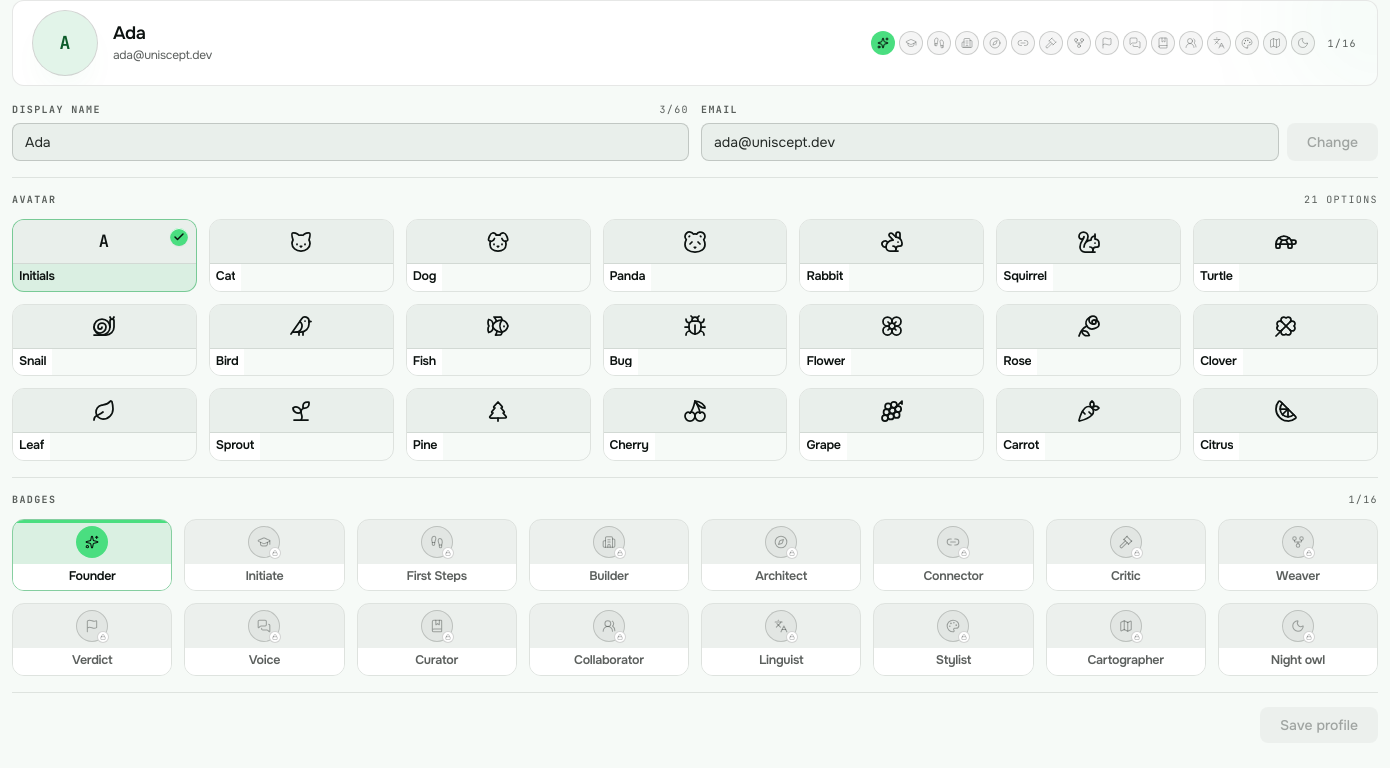
Test: ProfileSection › GIVEN the profile of a named account › WHEN an invalid email is typed › THEN the email is flagged and the change cannot be submitted
The width and height of the screenshot is (1390, 768).
Replace the text in the field named "Email" with "not-an-email": point(990, 142) [701,123,1279,161]
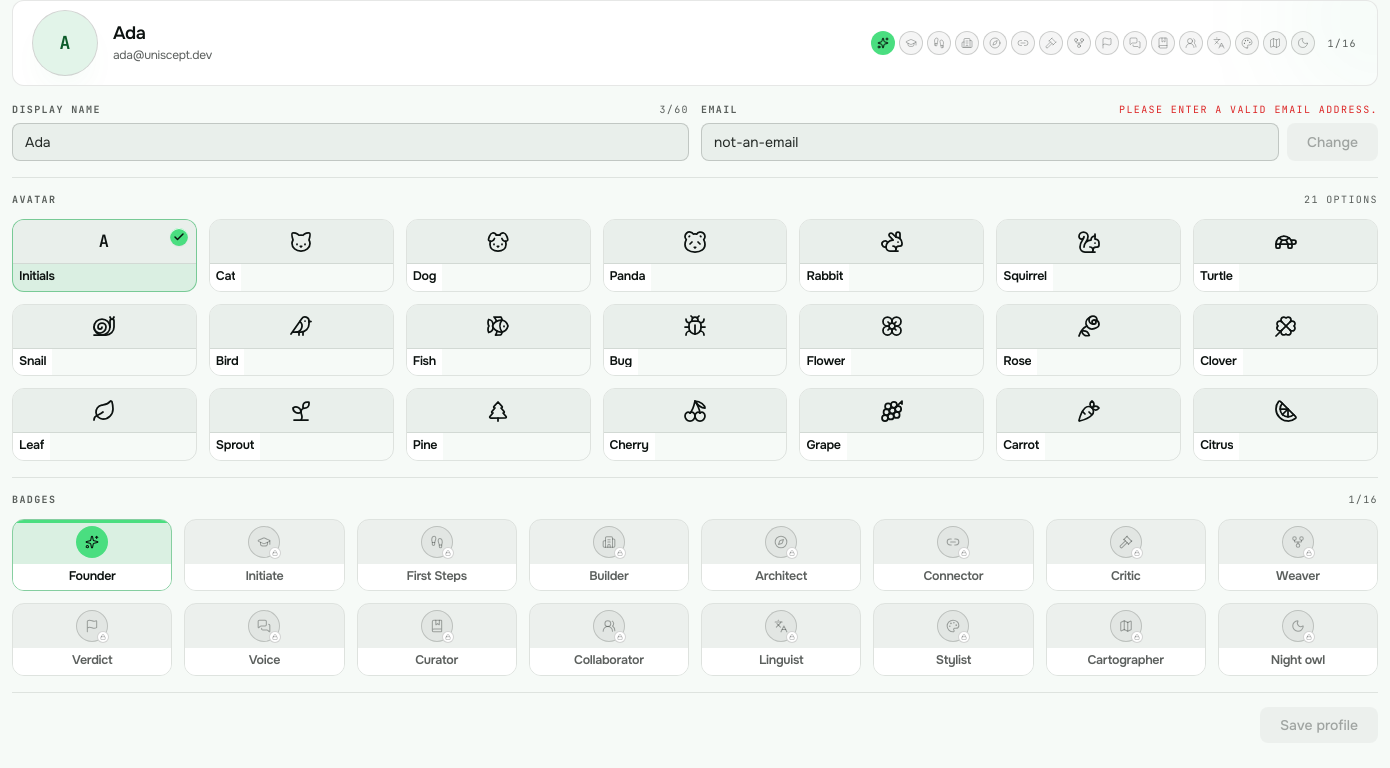
Expected: the button "Change" is disabled, [1287,123,1378,161]
Expected: the text "Please enter a valid email address." is shown, [1119,102,1378,117]
